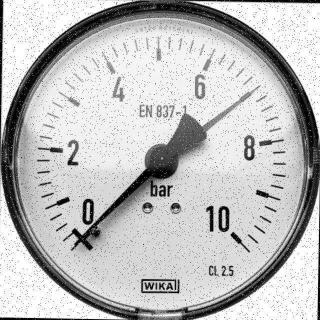gauge: (0, 0, 320, 320), (66, 218, 102, 254), (144, 142, 178, 180), (217, 218, 248, 252), (250, 80, 264, 94), (70, 236, 84, 249)
